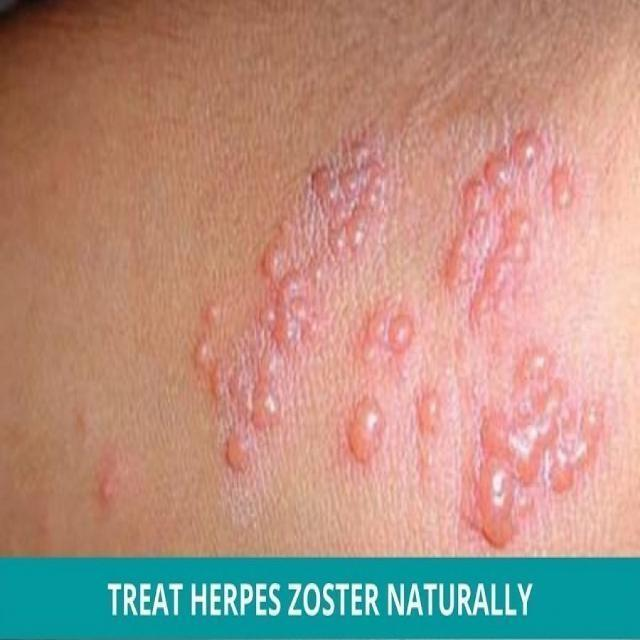Shingles: (188, 123, 605, 548)
